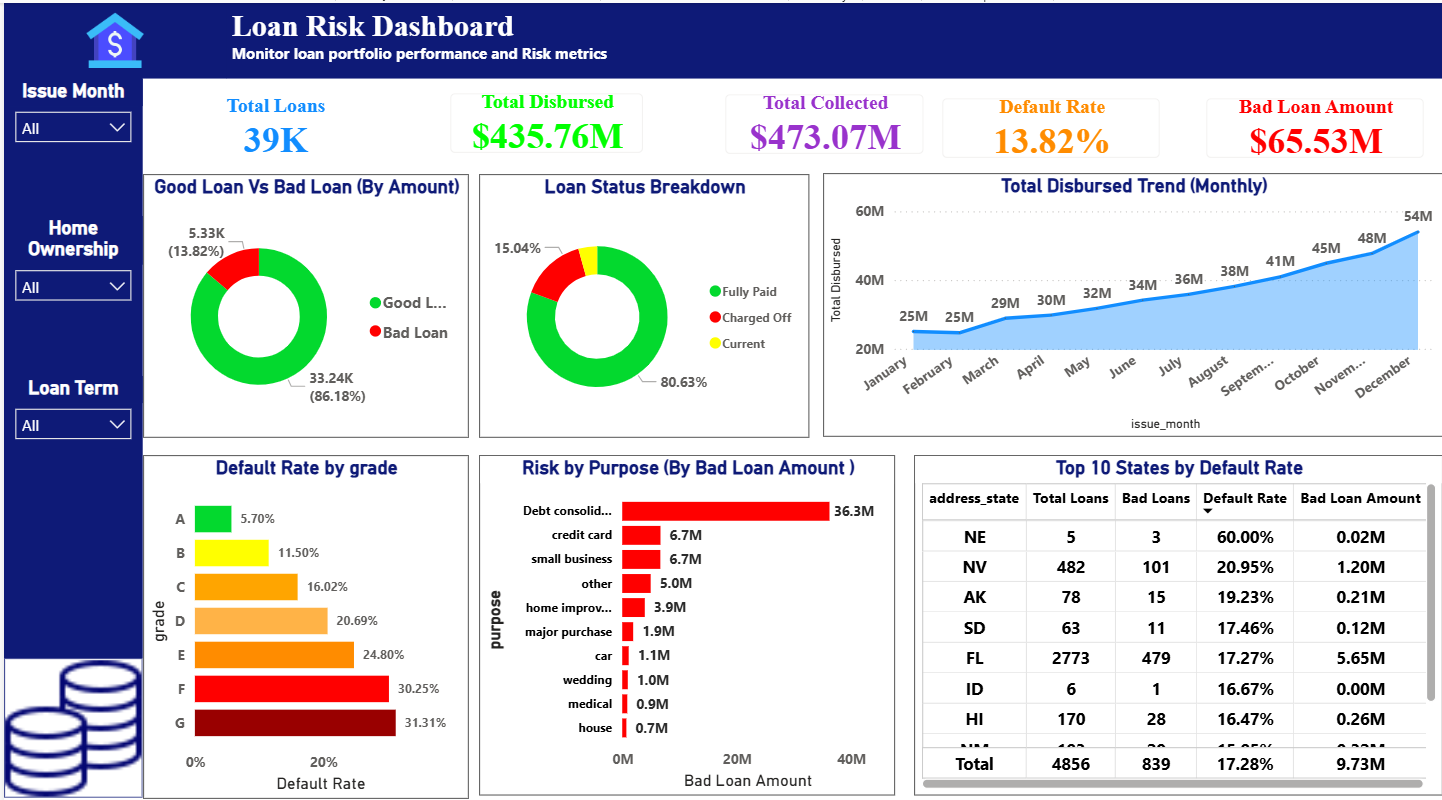

The page's visual inventory and layout, read from the dashboard file:
{"tool":"powerbi","page":{"name":"Page 1","canvas":[1280,720],"ordinal":0},"visuals":[{"type":"clusteredBarChart","title":"Risk by Purpose (By Bad Loan Amount )","fields":{"Y":["financedb loan_risk_dashboard.Bad Loan Amount"],"Category":["financedb loan_risk_dashboard.purpose"]},"box":[421.2,400.7,369.2,302.2],"z":4000},{"type":"tableEx","title":"Top 10 States by Default Rate","fields":{"Values":["financedb loan_risk_dashboard.address_state","financedb loan_risk_dashboard.Total Loans","financedb loan_risk_dashboard.Bad Loans","financedb loan_risk_dashboard.Default Rate","financedb loan_risk_dashboard.Bad Loan Amount"]},"box":[806.8,400.7,469.1,302.2],"z":5000},{"type":"lineChart","title":"Total Disbursed Trend  (Monthly)","fields":{"Category":["financedb loan_risk_dashboard.issue_month"],"Y":["financedb loan_risk_dashboard.Total Disbursed"]},"box":[726.2,150.4,549.7,233.8],"z":6000},{"type":"clusteredBarChart","fields":{"Category":["financedb loan_risk_dashboard.grade"],"Y":["financedb loan_risk_dashboard.Default Rate"]},"box":[123.1,400.7,288.5,305],"z":7000},{"type":"donutChart","title":"Good Loan Vs Bad Loan (By Amount)","fields":{"Category":["financedb loan_risk_dashboard.loan_category"],"Y":["financedb loan_risk_dashboard.Total Loans"]},"box":[123.1,151.8,288.5,233.8],"z":8000},{"type":"donutChart","title":"Loan Status Breakdown","fields":{"Category":["financedb loan_risk_dashboard.loan_status"],"Y":["financedb loan_risk_dashboard.Total Disbursed"]},"box":[421.2,151.8,292.6,233.8],"z":9000},{"type":"textbox","box":[0,57.4,123.1,523.8],"z":10000},{"type":"slicer","title":"Issue Month","fields":{"Values":["financedb loan_risk_dashboard.issue_month"]},"box":[0,67,123.1,79.3],"z":11000},{"type":"textbox","box":[196.9,0,1079,67],"z":12000},{"type":"image","box":[0,0,196.9,67],"z":13000},{"type":"slicer","title":"Home Ownership","fields":{"Values":["financedb loan_risk_dashboard.home_ownership"]},"box":[0,188.7,123.1,79.3],"z":14000},{"type":"slicer","title":"Loan Term","fields":{"Values":["financedb loan_risk_dashboard.term"]},"box":[0,330.9,123.1,79.3],"z":15000},{"type":"image","box":[0,581.2,123.1,124.4],"z":16000},{"type":"cardVisual","fields":{"Data":["financedb loan_risk_dashboard.Total Loans"]},"box":[132.6,67,216.1,87.5],"z":16001},{"type":"cardVisual","fields":{"Data":["financedb loan_risk_dashboard.Total Disbursed"]},"box":[378.8,62.9,205.1,87.5],"z":16002},{"type":"cardVisual","fields":{"Data":["financedb loan_risk_dashboard.Total Collected"]},"box":[622.2,64.3,210.6,87.5],"z":16003},{"type":"cardVisual","fields":{"Data":["financedb loan_risk_dashboard.Default Rate"]},"box":[815,67,227,87.5],"z":16004},{"type":"cardVisual","fields":{"Data":["financedb loan_risk_dashboard.Bad Loan Amount"]},"box":[1048.9,67,227,87.5],"z":16005}]}

Visuals, with their boxes in screenshot pixels (x1, y1, x2, y2), scaled from the page's 1280x720 canvas onto the 1442x800 screenshot:
"Risk by Purpose (By Bad Loan Amount )" clusteredBarChart: left=475, top=445, right=890, bottom=781
"Top 10 States by Default Rate" tableEx: left=909, top=445, right=1437, bottom=781
"Total Disbursed Trend  (Monthly)" lineChart: left=818, top=167, right=1437, bottom=427
clusteredBarChart - financedb loan_risk_dashboard.grade x financedb loan_risk_dashboard.Default Rate: left=139, top=445, right=464, bottom=784
"Good Loan Vs Bad Loan (By Amount)" donutChart: left=139, top=169, right=464, bottom=428
"Loan Status Breakdown" donutChart: left=475, top=169, right=804, bottom=428
textbox: left=0, top=64, right=139, bottom=646
"Issue Month" slicer: left=0, top=74, right=139, bottom=163
textbox: left=222, top=0, right=1437, bottom=74
image: left=0, top=0, right=222, bottom=74
"Home Ownership" slicer: left=0, top=210, right=139, bottom=298
"Loan Term" slicer: left=0, top=368, right=139, bottom=456
image: left=0, top=646, right=139, bottom=784
cardVisual - financedb loan_risk_dashboard.Total Loans: left=149, top=74, right=393, bottom=172
cardVisual - financedb loan_risk_dashboard.Total Disbursed: left=427, top=70, right=658, bottom=167
cardVisual - financedb loan_risk_dashboard.Total Collected: left=701, top=71, right=938, bottom=169
cardVisual - financedb loan_risk_dashboard.Default Rate: left=918, top=74, right=1174, bottom=172
cardVisual - financedb loan_risk_dashboard.Bad Loan Amount: left=1182, top=74, right=1437, bottom=172
